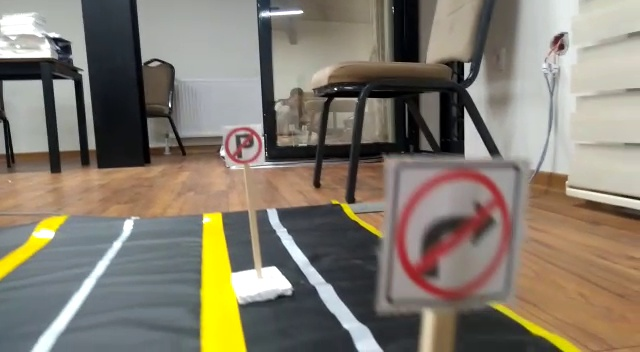park_yapilmaz: (225, 124, 265, 167)
saga_donulmez: (384, 157, 516, 308)
